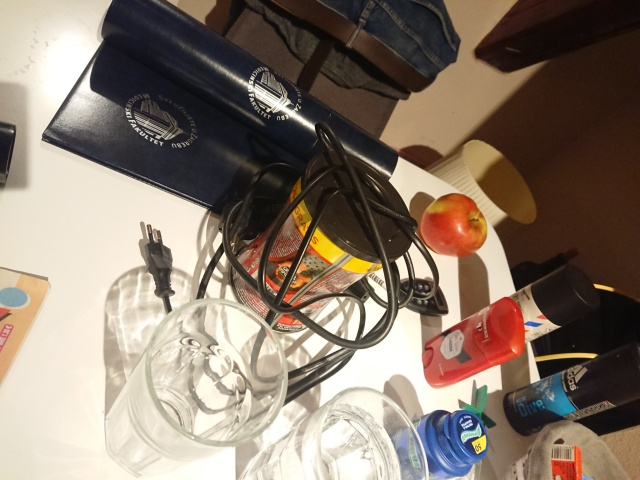Nescafe Classic 225g: (226, 148, 418, 337)
